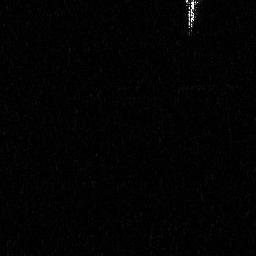ship: (181, 1, 200, 31)
